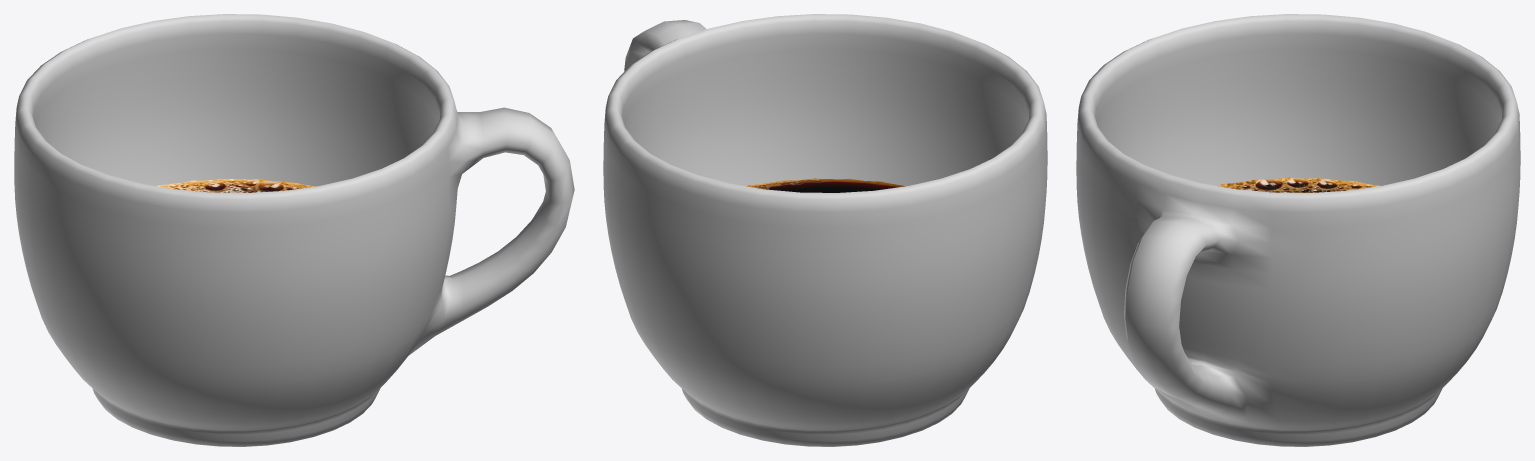
3 views of the same model, side by side, from view 1: azimuth 30°, elevation 25°; view 2: azimuth 150°, elevation 25°; view 3: azimuth 270°, elevation 25° (orthographic).
Parts seen in each view (by area): view 1: cup_01, coffee_foam; view 2: cup_01, coffee_foam; view 3: cup_01, coffee_foam.
Part boxes in pixels (x1,y1,x2,y2): cup_01: (14, 14, 574, 446); coffee_foam: (156, 179, 314, 192); cup_01: (603, 14, 1047, 446); coffee_foam: (746, 178, 904, 192); cup_01: (1076, 14, 1520, 446); coffee_foam: (1217, 177, 1379, 192).
Size of what is drawn, in the model's own units: 4.87 by 2.9 by 4.07.
Materials: 2 (1 with a texture image).
